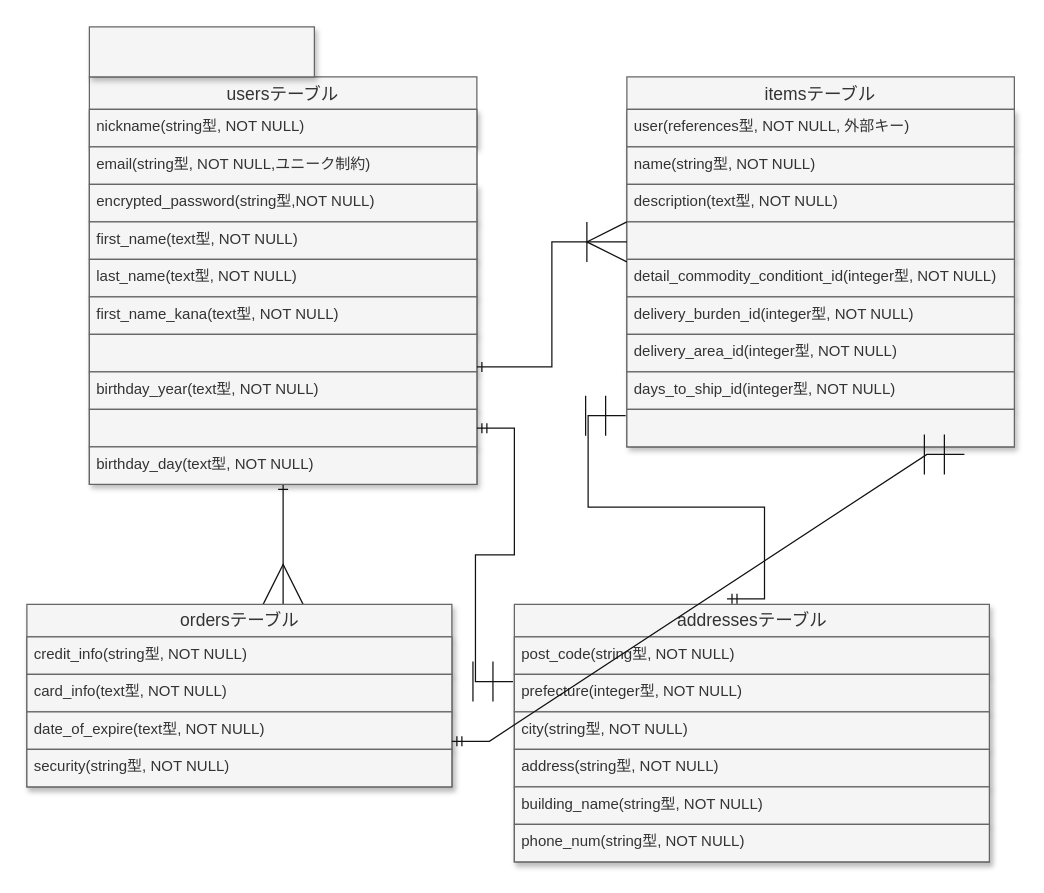
Some shapes in this 1044 by 893 pixel diagram are drawn without their labels. Here are the shapes that lost their labels. From the top down, the centre of each, then its label:
(202,53): Furima ER図
(821,242): detail_category_id(integer型, NOT NULL)
(283,354): last_name_kana(text型, NOT NULL)
(283,429): birthday_month(text型, NOT NULL)
(821,429): price(text型, NOT NULL)
